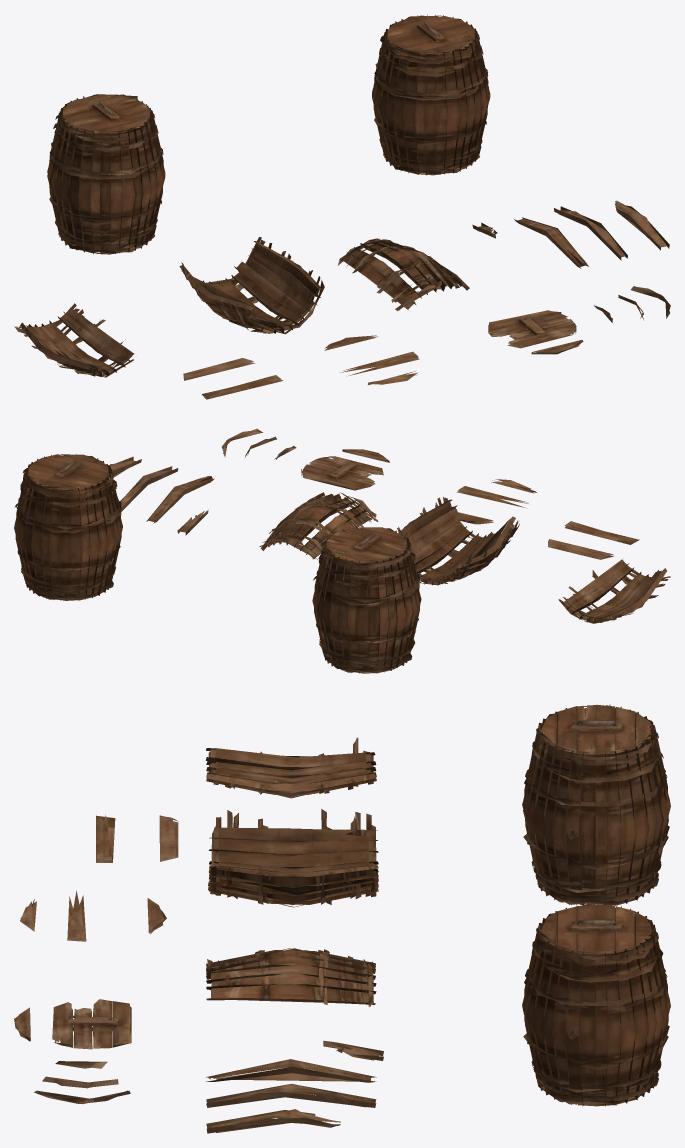
Rendered from wooden_barrels_01.glb.
The picture shows the model from 3 angles, top to bottom: view 1: azimuth 30°, elevation 25°; view 2: azimuth 150°, elevation 25°; view 3: azimuth 270°, elevation 25°; orthographic projection. The views are drawn at different scales.
Parts seen in each view (by area): view 1: wooden_barrels_01_barrel02, wooden_barrels_01_barrel01, wooden_barrels_01_piece01, wooden_barrels_01_piece03, wooden_barrels_01_piece02, wooden_barrels_01_piece08, wooden_barrels_01_piece04, wooden_barrels_01_piece05, wooden_barrels_01_piece06, wooden_barrels_01_piece11, wooden_barrels_01_piece14, wooden_barrels_01_piece13; view 2: wooden_barrels_01_barrel02, wooden_barrels_01_barrel01, wooden_barrels_01_piece01, wooden_barrels_01_piece03, wooden_barrels_01_piece02, wooden_barrels_01_piece08, wooden_barrels_01_piece04, wooden_barrels_01_piece05, wooden_barrels_01_piece14, wooden_barrels_01_piece13, wooden_barrels_01_piece11; view 3: wooden_barrels_01_barrel01, wooden_barrels_01_barrel02, wooden_barrels_01_piece01, wooden_barrels_01_piece03, wooden_barrels_01_piece02, wooden_barrels_01_piece08, wooden_barrels_01_piece04, wooden_barrels_01_piece05, wooden_barrels_01_piece06, wooden_barrels_01_piece14, wooden_barrels_01_piece13, wooden_barrels_01_piece11.
Part boxes in pixels (x1,y1,x2,y2): wooden_barrels_01_barrel02: (47, 94, 165, 254); wooden_barrels_01_barrel01: (372, 14, 490, 175); wooden_barrels_01_piece01: (179, 236, 324, 334); wooden_barrels_01_piece03: (337, 238, 469, 311); wooden_barrels_01_piece02: (14, 303, 133, 377); wooden_barrels_01_piece08: (488, 310, 576, 348); wooden_barrels_01_piece04: (514, 217, 588, 268); wooden_barrels_01_piece05: (554, 206, 627, 260); wooden_barrels_01_piece06: (615, 200, 669, 250); wooden_barrels_01_piece11: (339, 351, 419, 376); wooden_barrels_01_piece14: (201, 375, 283, 399); wooden_barrels_01_piece13: (183, 358, 254, 380); wooden_barrels_01_barrel02: (312, 526, 421, 673); wooden_barrels_01_barrel01: (14, 454, 122, 600); wooden_barrels_01_piece01: (397, 497, 519, 585); wooden_barrels_01_piece03: (259, 492, 378, 560); wooden_barrels_01_piece02: (558, 559, 670, 623); wooden_barrels_01_piece08: (301, 456, 383, 490); wooden_barrels_01_piece04: (146, 476, 214, 523); wooden_barrels_01_piece05: (120, 466, 178, 511); wooden_barrels_01_piece14: (564, 521, 639, 544); wooden_barrels_01_piece13: (548, 539, 613, 559); wooden_barrels_01_piece11: (456, 486, 528, 508); wooden_barrels_01_barrel01: (522, 904, 670, 1106); wooden_barrels_01_barrel02: (522, 704, 670, 905); wooden_barrels_01_piece01: (208, 809, 378, 907); wooden_barrels_01_piece03: (206, 948, 376, 1007); wooden_barrels_01_piece02: (205, 737, 376, 798); wooden_barrels_01_piece08: (52, 999, 131, 1049); wooden_barrels_01_piece04: (206, 1059, 376, 1082); wooden_barrels_01_piece05: (206, 1083, 376, 1107); wooden_barrels_01_piece06: (206, 1109, 340, 1133); wooden_barrels_01_piece14: (96, 815, 115, 862); wooden_barrels_01_piece13: (159, 815, 178, 861); wooden_barrels_01_piece11: (67, 890, 86, 941).
Bounding box in the file's own units: 4.44 × 0.9558 × 3.36.
Materials: 3 (3 with a texture image).
